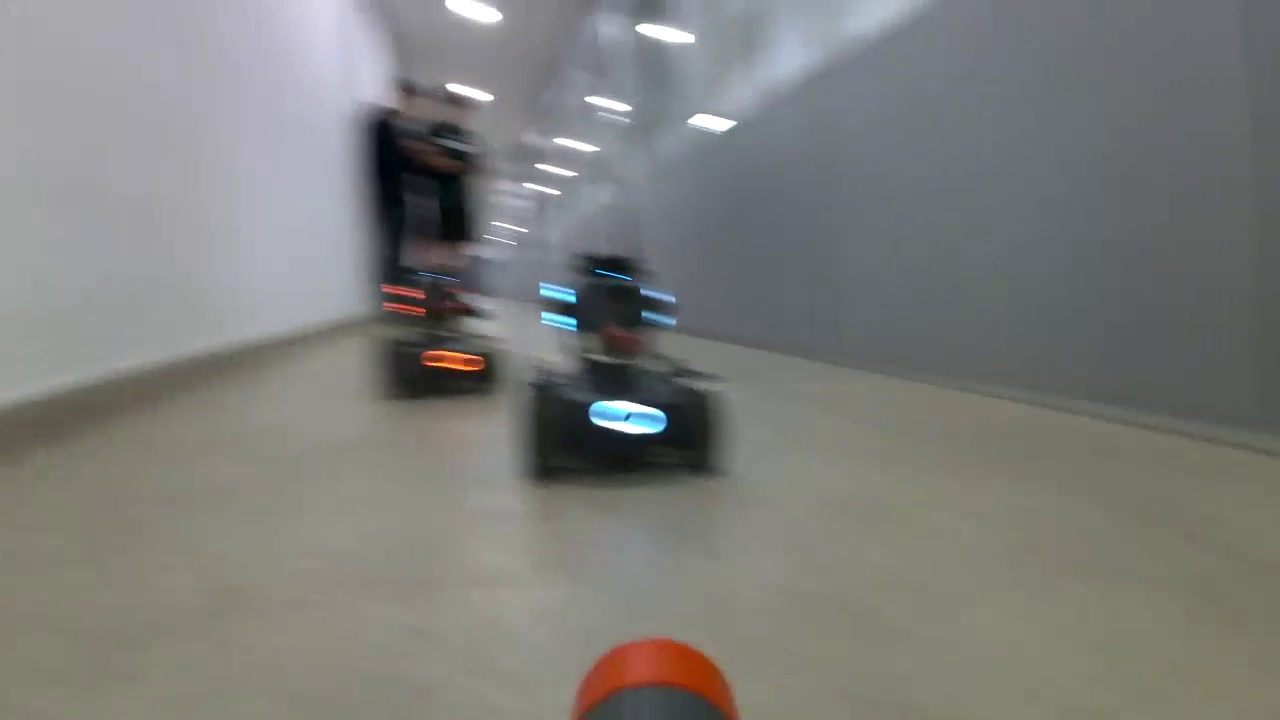robot: (528, 257, 714, 482), (373, 270, 497, 401)
